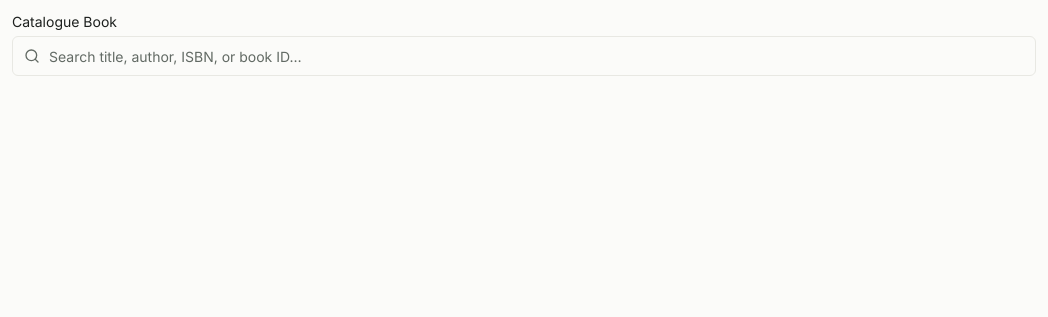
Test: CatalogueSelector › hides covers, ISBN and PDF badges when their display options are disabled
Focus the field named "Catalogue Book" at (524, 56), box [12, 36, 1036, 76]
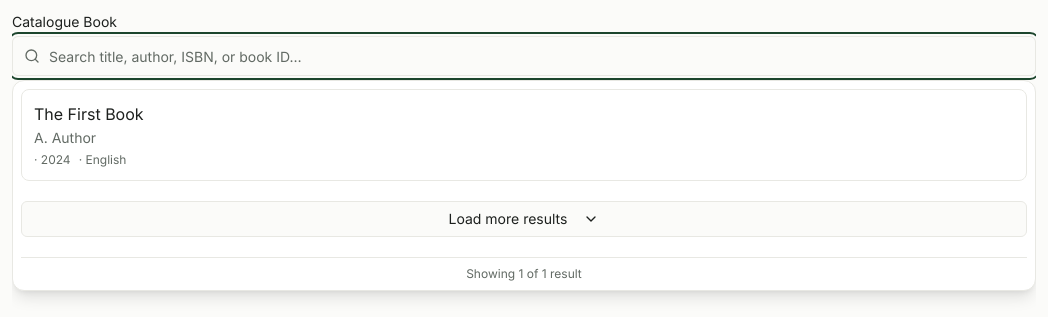
Expected: the option "The First Book A. Author · 2024 · English" is shown, [21, 89, 1027, 181]
